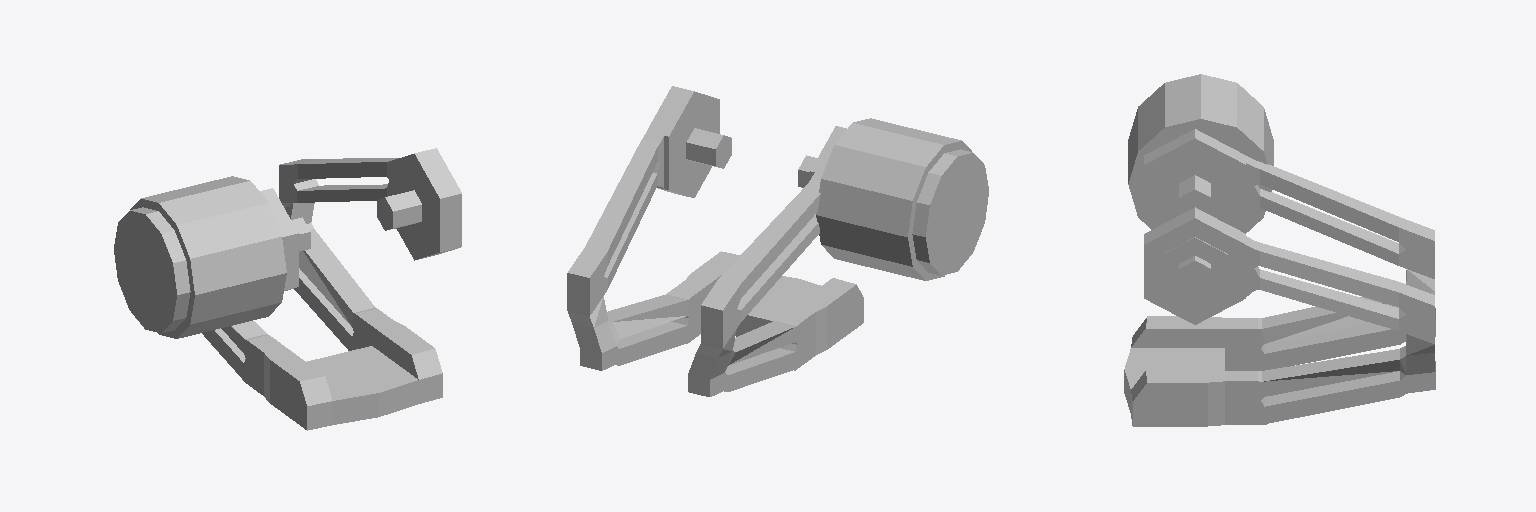
Rendered from RM2018_Standard_Holder.obj.
3 renders of one model, left to right at view 1: azimuth 30°, elevation 25°; view 2: azimuth 150°, elevation 25°; view 3: azimuth 270°, elevation 25°, orthographic.
Visible parts, largest first — view 1: polySurface41; view 2: polySurface41; view 3: polySurface41.
Boxes of the visible parts, x1=… form: polySurface41: x1=114, y1=148, x2=461, y2=430; polySurface41: x1=567, y1=86, x2=988, y2=396; polySurface41: x1=1124, y1=74, x2=1435, y2=426.
Bounding box in the file's own units: 2.32 × 1.7 × 2.08.